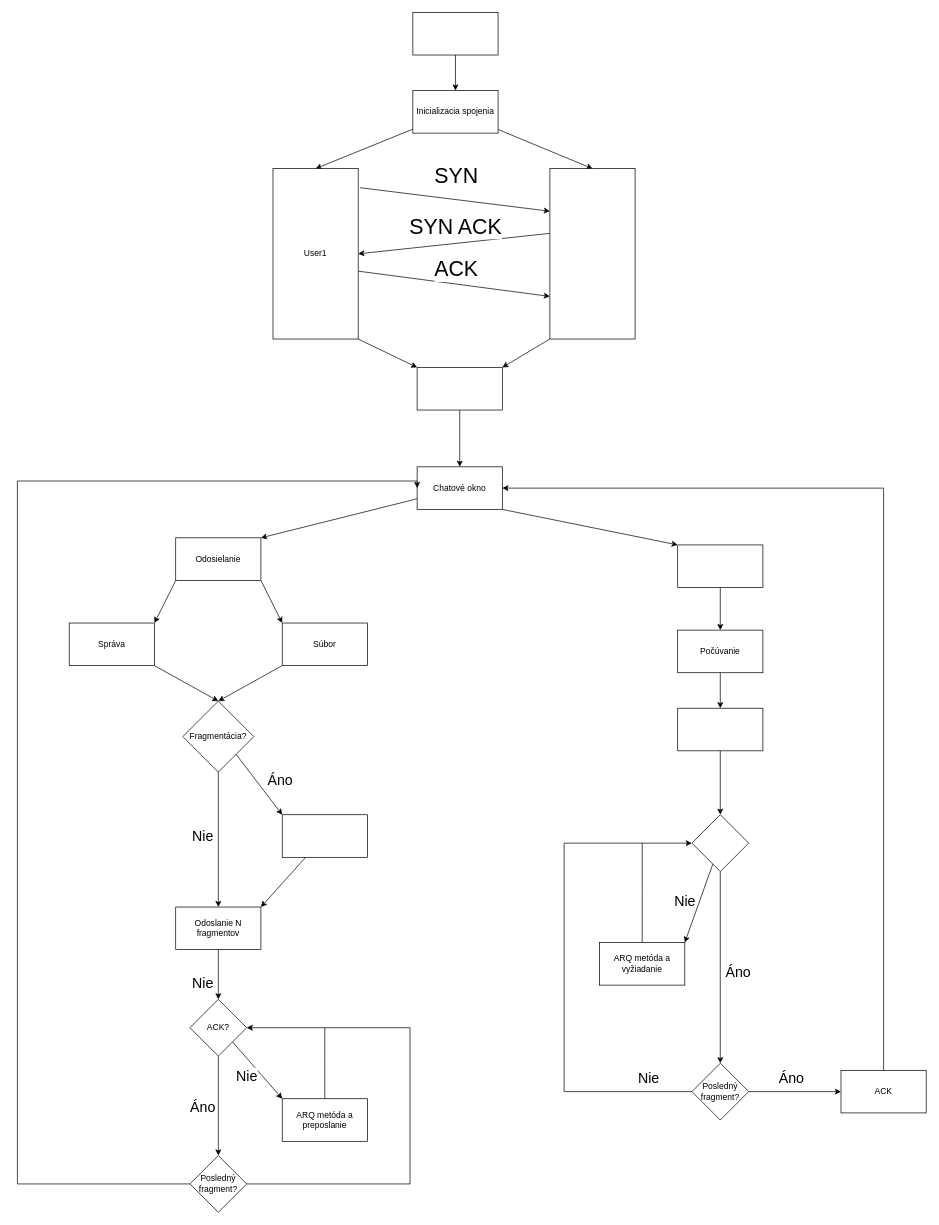
This 939x1225 diagram has some shape labels left out. The shapes that lost their labels are listed below. From the top down, each one's box as (x1, y1, x2, y2) in pixels, then its label:
(412, 12, 498, 55): Spustenie programu
(549, 168, 635, 339): User2
(416, 367, 502, 410): Spojenie nadviazané
(677, 544, 763, 588): Prijímanie
(677, 708, 763, 751): Spracovanie fragmentu/ov
(282, 814, 367, 857): Rozdelenie na fragmenty
(691, 814, 749, 872): CRC OK?
